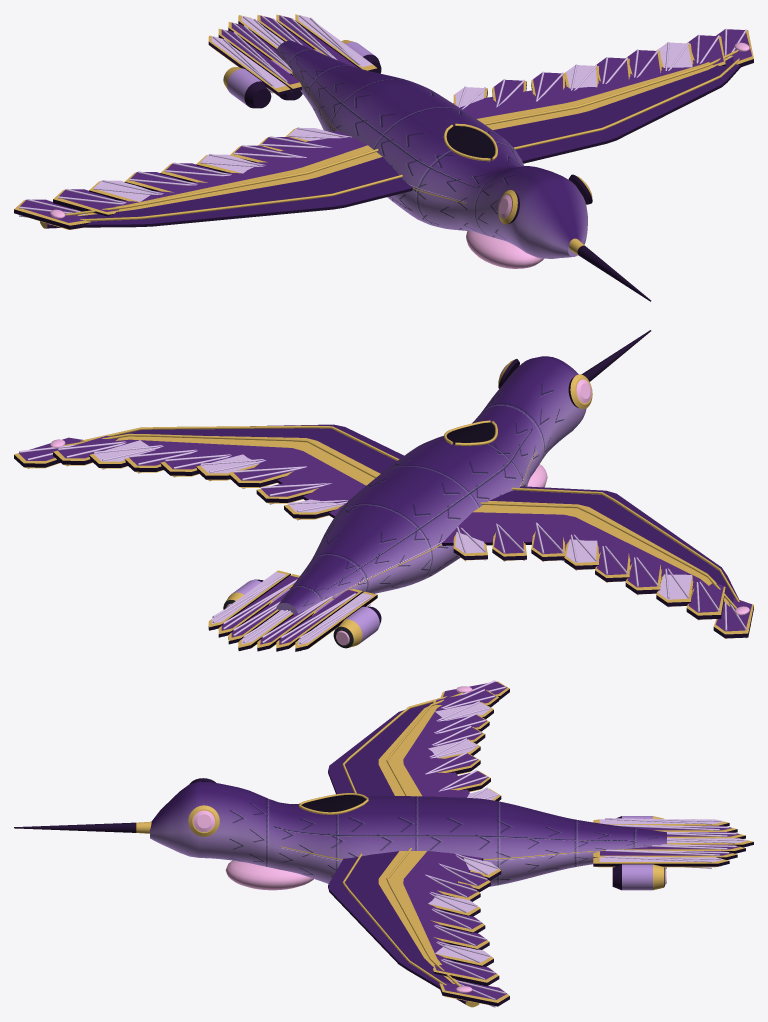
3 views of the same model, one above another, from view 1: azimuth 30°, elevation 25°; view 2: azimuth 150°, elevation 25°; view 3: azimuth 270°, elevation 25° (orthographic). The views are drawn at different scales.
Visible parts, largest first — view 1: hummingbird_hull; view 2: hummingbird_hull; view 3: hummingbird_hull.
Boxes of the visible parts, x1=… form: hummingbird_hull: x1=14, y1=14, x2=753, y2=301; hummingbird_hull: x1=14, y1=330, x2=753, y2=651; hummingbird_hull: x1=14, y1=680, x2=753, y2=1007.
Size of the model in its own units: 17 by 2.47 by 16.53.
1 material, 1 textured.
